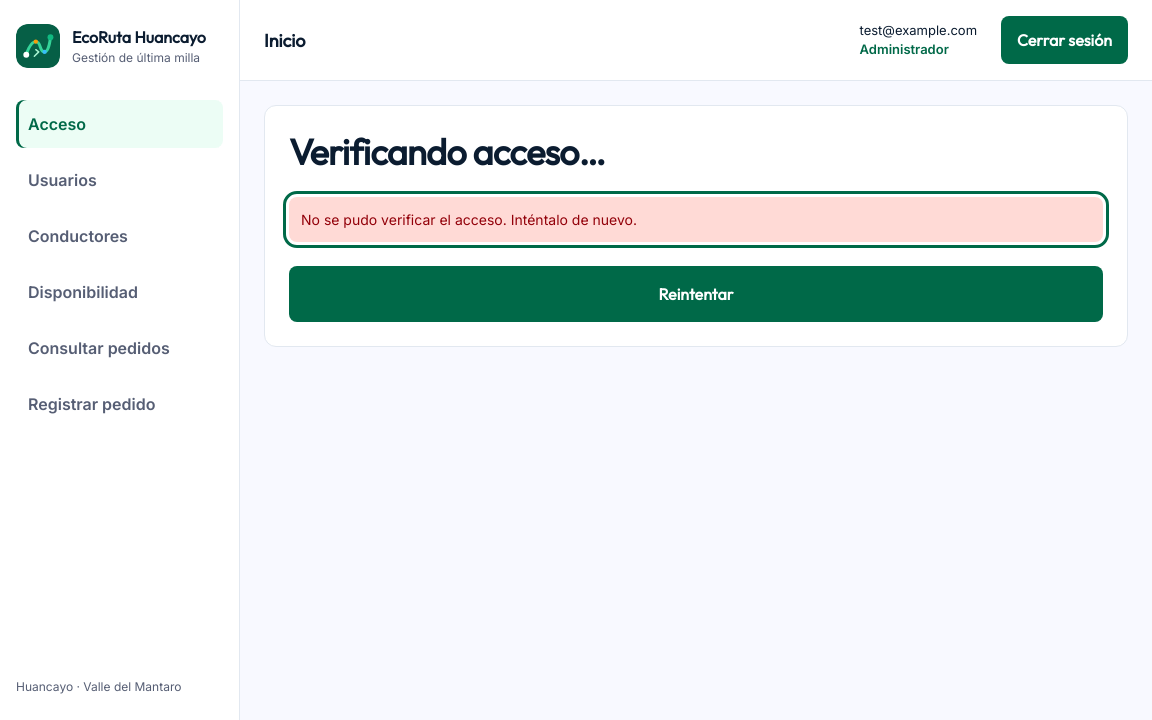
Acceso según rol › permite reintentar un fallo de red
The width and height of the screenshot is (1152, 720).
Expected: the message "No se pudo verificar el acceso. Inténtalo de nuevo." is shown, [289, 197, 1103, 242]
Click the button "Reintentar": (696, 294) [289, 266, 1103, 322]
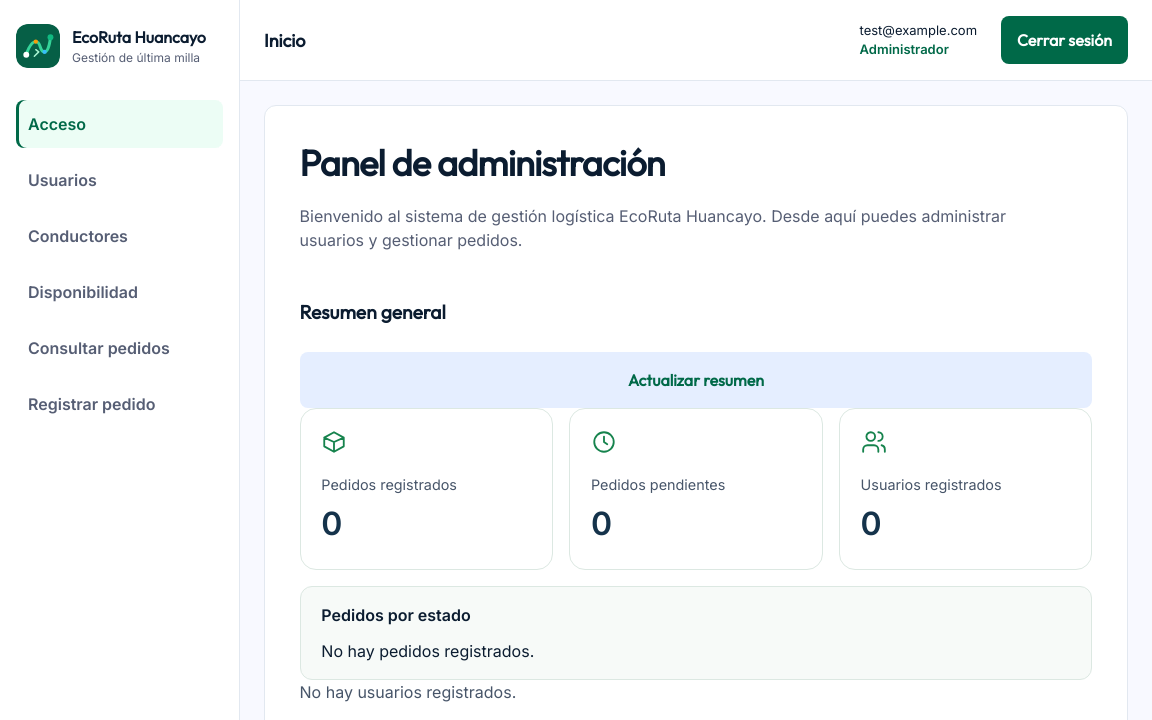
Expected: the heading "Panel de administración" is shown, [300, 140, 665, 184]
